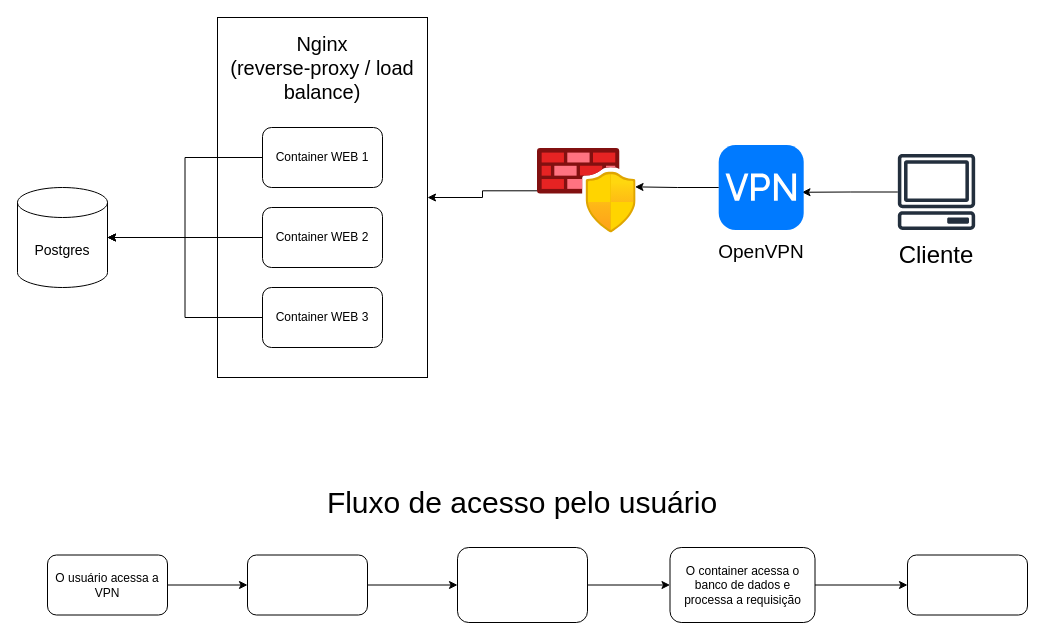
The diagram is 1045 pixels wide and 640 high, and some of its shapes have lost their labels. Here are the shapes that lost their labels. From the top down, the box of each, then its label:
(246, 554, 368, 615): O usuário requisita um recurso do servidor
(456, 546, 588, 622): A requisição é redirecionada pelo Nginx à um dos containers
(906, 554, 1028, 615): O servidor retorna uma resposta ao usuário
